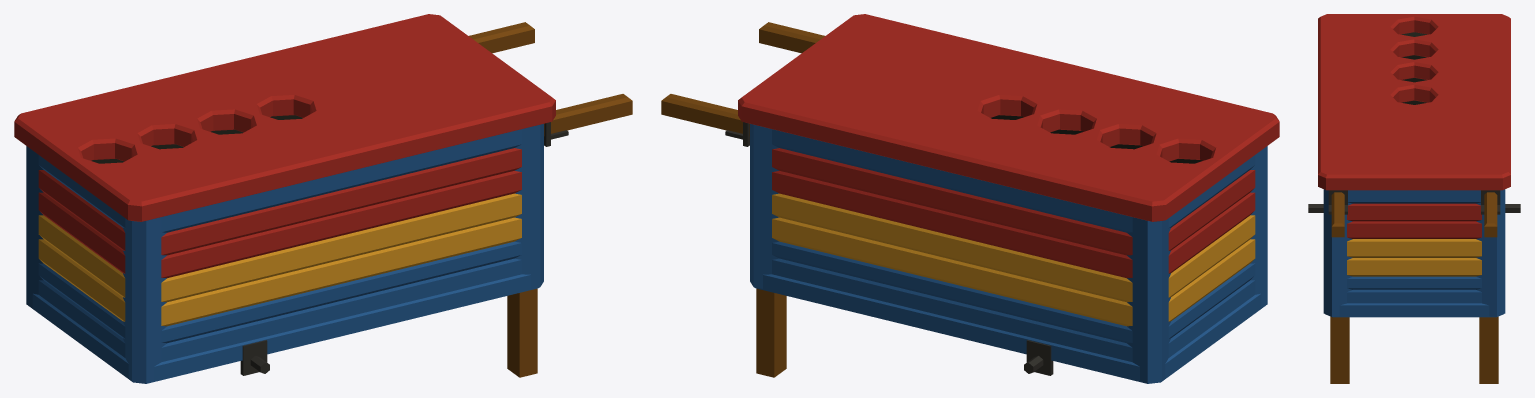
The model's file is SM_Cart_SorbetesBody_01.fbx.
3 renders of one model, left to right at view 1: azimuth 30°, elevation 25°; view 2: azimuth 150°, elevation 25°; view 3: azimuth 270°, elevation 25°, orthographic. The views are drawn at different scales.
Visible parts, largest first — view 1: SM_Cart_SorbetesBody_01; view 2: SM_Cart_SorbetesBody_01; view 3: SM_Cart_SorbetesBody_01.
Part boxes in pixels (x1,y1,x2,y2): SM_Cart_SorbetesBody_01: [14, 14, 632, 383]; SM_Cart_SorbetesBody_01: [661, 14, 1279, 383]; SM_Cart_SorbetesBody_01: [1308, 14, 1520, 383].
Size of the model in its own units: 1.71 by 0.88 by 0.791.
1 material, 1 textured.
